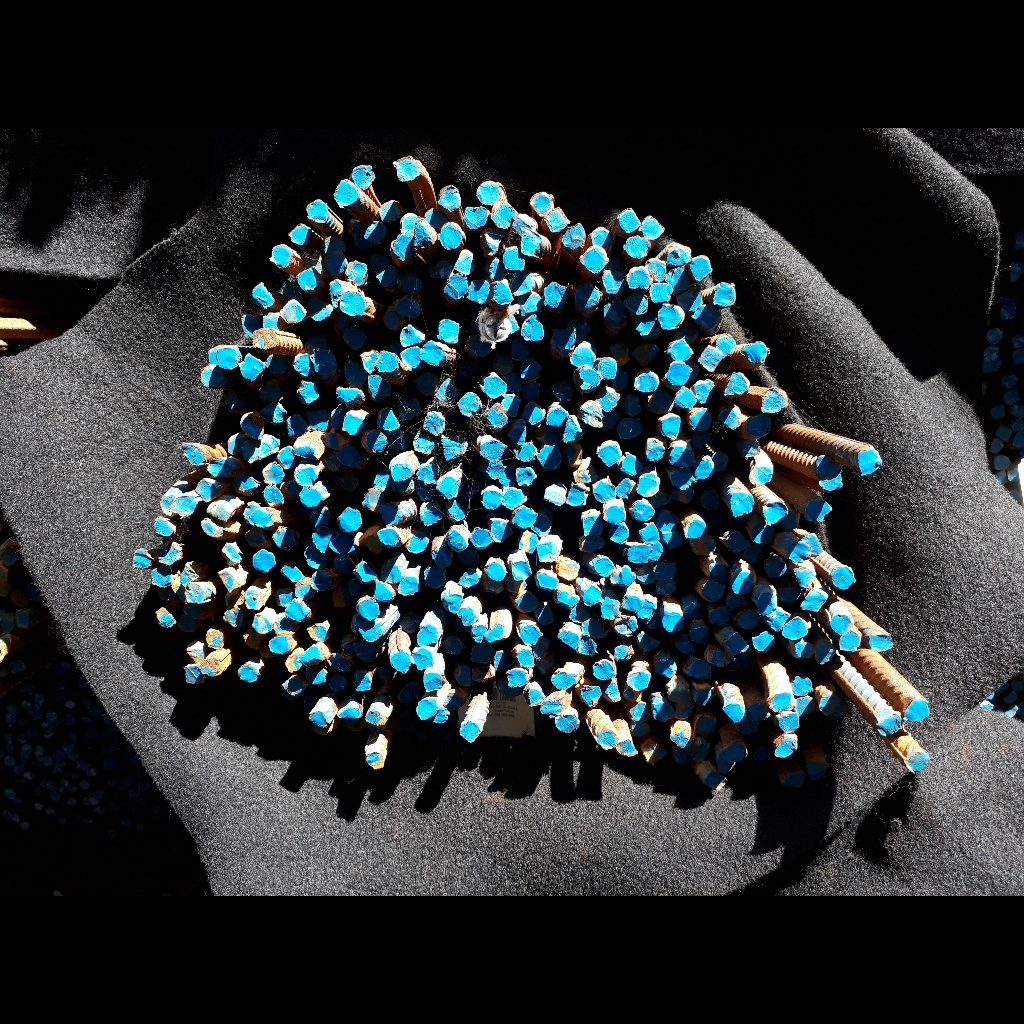dipstick: (483, 313, 519, 342), (294, 434, 324, 461), (310, 348, 336, 379), (208, 345, 239, 371), (541, 280, 568, 309), (333, 178, 359, 208), (665, 674, 692, 702), (573, 365, 602, 391), (691, 305, 721, 330), (580, 248, 610, 273), (518, 226, 541, 258), (724, 371, 751, 398), (342, 409, 369, 436), (569, 343, 597, 369), (420, 340, 446, 368), (440, 435, 468, 461), (665, 338, 694, 363), (578, 399, 603, 428), (239, 411, 264, 440), (293, 644, 323, 668), (697, 345, 723, 372), (443, 274, 470, 300), (781, 616, 809, 641), (665, 266, 693, 291), (664, 361, 692, 386), (596, 385, 621, 413), (239, 353, 264, 381), (560, 414, 583, 444), (639, 214, 665, 240), (692, 378, 718, 404), (641, 739, 667, 765), (487, 517, 513, 543), (806, 498, 833, 523), (601, 299, 628, 324), (575, 282, 600, 309), (497, 672, 524, 697), (250, 283, 275, 310), (721, 631, 749, 655), (654, 650, 678, 678), (520, 314, 544, 342), (537, 443, 561, 471), (339, 292, 367, 316), (618, 206, 641, 235), (622, 235, 651, 258), (669, 719, 692, 748), (857, 449, 882, 475), (728, 492, 754, 517), (597, 441, 623, 466), (591, 477, 616, 503), (601, 499, 627, 524), (544, 207, 570, 232), (549, 376, 574, 402), (492, 202, 517, 228), (437, 224, 463, 249), (393, 157, 419, 182), (413, 430, 439, 455), (271, 526, 297, 551), (657, 304, 681, 331), (632, 345, 659, 369), (562, 223, 586, 250), (492, 348, 516, 375), (511, 505, 538, 529), (419, 500, 443, 527), (344, 358, 368, 385), (280, 299, 307, 323), (687, 618, 710, 646), (438, 185, 461, 213), (414, 219, 437, 247), (635, 471, 660, 496), (551, 326, 576, 351), (529, 191, 554, 216), (516, 291, 541, 316), (251, 548, 276, 573), (903, 698, 929, 722), (689, 256, 713, 282), (630, 311, 656, 335), (566, 481, 590, 507), (307, 297, 333, 321), (501, 487, 528, 510), (392, 234, 415, 261), (360, 526, 383, 553), (156, 543, 183, 566), (259, 403, 288, 424), (192, 365, 224, 384), (730, 571, 755, 595), (670, 466, 695, 490), (617, 452, 642, 476), (502, 245, 526, 270), (366, 374, 391, 398), (256, 434, 280, 459), (303, 544, 327, 569), (764, 554, 787, 580), (761, 501, 787, 524), (713, 281, 736, 307), (668, 445, 694, 468), (654, 509, 680, 532), (610, 563, 636, 586), (458, 391, 481, 417), (400, 324, 426, 347), (800, 590, 827, 612), (675, 290, 702, 312), (454, 249, 476, 276), (394, 297, 421, 319), (334, 387, 365, 406), (602, 270, 626, 294), (637, 631, 661, 655), (521, 401, 545, 425), (489, 281, 513, 305), (259, 379, 283, 403), (816, 455, 841, 478), (830, 565, 855, 588), (786, 541, 811, 564), (876, 713, 901, 736), (750, 630, 775, 653), (674, 632, 697, 657), (599, 677, 622, 702), (467, 279, 490, 304), (415, 371, 438, 396), (373, 349, 398, 372), (362, 487, 385, 512), (339, 507, 362, 532), (352, 166, 375, 191), (322, 252, 347, 275), (309, 507, 332, 532), (284, 599, 309, 622), (617, 419, 643, 441), (554, 713, 580, 735), (352, 561, 378, 583), (353, 640, 379, 662), (233, 473, 259, 495), (690, 534, 717, 555), (480, 440, 507, 461), (328, 534, 355, 555), (790, 565, 814, 588), (830, 613, 854, 636), (666, 242, 690, 265), (674, 385, 697, 409), (463, 206, 487, 229), (377, 408, 400, 432), (337, 445, 361, 468), (342, 328, 366, 351), (253, 328, 276, 352), (297, 381, 320, 405), (181, 442, 205, 465), (174, 495, 197, 519), (273, 613, 297, 636), (905, 750, 930, 772), (761, 388, 783, 413), (742, 341, 767, 363), (766, 691, 791, 713), (631, 497, 653, 522), (721, 740, 746, 762), (580, 684, 602, 709), (437, 318, 459, 343), (423, 411, 445, 436), (345, 260, 367, 285), (184, 582, 209, 604), (633, 372, 659, 393), (554, 585, 580, 606), (554, 559, 580, 580), (486, 401, 507, 427), (284, 647, 304, 674), (628, 700, 651, 723), (468, 334, 491, 357), (476, 181, 499, 204), (372, 578, 395, 601), (297, 268, 320, 291), (306, 409, 329, 432), (262, 462, 285, 485), (222, 542, 245, 565), (818, 693, 842, 715), (767, 608, 791, 630), (626, 268, 650, 290), (737, 609, 761, 631), (567, 317, 591, 339), (614, 613, 638, 635), (517, 530, 539, 554), (470, 641, 494, 663), (483, 376, 507, 398), (416, 461, 438, 485), (398, 398, 422, 420), (309, 570, 333, 592), (364, 221, 386, 245), (309, 531, 333, 553), (814, 639, 835, 664), (725, 531, 750, 552), (660, 415, 681, 440), (649, 392, 674, 413), (610, 341, 631, 366), (689, 738, 710, 763), (285, 413, 306, 438), (217, 568, 238, 593), (694, 454, 714, 480), (581, 618, 607, 638), (207, 457, 233, 477), (625, 545, 652, 564), (508, 418, 527, 445), (182, 602, 209, 621), (589, 227, 612, 249), (627, 669, 650, 691), (543, 483, 565, 506), (520, 624, 543, 646), (375, 265, 398, 287), (436, 476, 459, 498), (445, 529, 468, 551), (306, 199, 328, 222), (224, 391, 246, 414), (751, 522, 775, 543), (648, 281, 672, 302), (572, 460, 596, 481), (484, 227, 505, 251), (384, 306, 405, 330), (355, 599, 379, 620), (270, 245, 291, 269), (293, 464, 317, 485), (298, 486, 322, 507), (207, 501, 231, 522), (868, 632, 893, 652), (551, 670, 576, 690), (514, 591, 539, 611), (405, 534, 430, 554), (276, 445, 296, 470), (683, 595, 702, 621), (790, 674, 812, 696), (750, 464, 772, 486), (689, 409, 711, 431), (581, 514, 603, 536), (546, 406, 568, 428), (515, 440, 537, 462), (436, 380, 458, 402), (470, 527, 492, 549), (432, 546, 454, 568), (424, 566, 446, 588), (411, 648, 433, 670), (415, 698, 437, 720), (365, 430, 387, 452), (360, 621, 382, 643), (196, 480, 218, 502), (715, 334, 736, 357), (675, 321, 698, 342), (718, 408, 741, 429), (702, 580, 725, 601), (596, 357, 617, 380), (557, 629, 580, 650), (511, 273, 532, 296), (518, 360, 541, 381), (441, 593, 464, 614), (481, 487, 502, 510), (400, 346, 421, 369), (389, 651, 410, 674), (379, 504, 402, 525), (790, 639, 814, 659), (707, 647, 731, 667), (623, 295, 647, 315), (687, 659, 711, 679), (616, 476, 636, 500), (591, 659, 615, 679), (535, 570, 559, 590), (487, 256, 507, 280), (180, 562, 199, 587), (838, 630, 860, 651), (537, 541, 558, 563), (509, 337, 530, 359), (459, 722, 481, 743), (417, 625, 438, 647), (398, 611, 420, 632), (386, 429, 408, 450), (263, 486, 284, 508), (133, 549, 155, 570), (151, 567, 173, 588), (294, 578, 316, 599), (251, 613, 272, 635), (155, 607, 176, 629), (747, 415, 770, 435), (721, 702, 744, 722), (707, 605, 730, 625), (640, 541, 663, 561), (532, 512, 552, 535), (505, 668, 528, 688), (472, 662, 495, 682), (500, 394, 520, 417), (359, 350, 379, 373), (378, 202, 401, 222), (288, 226, 311, 246), (265, 354, 288, 374), (244, 528, 267, 548), (736, 439, 760, 458), (646, 258, 665, 282), (774, 737, 798, 756), (622, 394, 641, 418), (569, 604, 593, 623), (530, 637, 549, 661), (398, 685, 422, 704), (376, 528, 400, 547), (326, 652, 350, 671), (241, 314, 260, 338), (819, 473, 844, 491), (757, 590, 775, 615), (662, 611, 683, 632), (636, 598, 657, 619), (608, 522, 629, 543), (484, 623, 505, 644), (372, 471, 393, 492), (282, 676, 303, 697), (332, 587, 353, 608), (337, 470, 358, 491), (802, 532, 822, 554), (778, 713, 800, 733), (705, 770, 727, 790), (593, 557, 615, 577), (600, 598, 620, 620), (616, 738, 638, 758), (515, 466, 537, 486), (390, 462, 412, 482), (381, 565, 403, 585), (252, 507, 272, 529), (223, 606, 243, 628), (243, 628, 263, 650), (206, 628, 226, 650), (237, 663, 259, 683), (806, 759, 829, 778), (708, 563, 731, 582), (200, 519, 223, 538), (280, 563, 303, 582), (244, 588, 263, 611), (268, 635, 291, 654), (453, 663, 471, 687), (306, 624, 330, 642), (776, 586, 801, 603), (700, 490, 720, 511), (692, 687, 713, 707), (653, 702, 673, 723), (597, 730, 617, 751), (522, 380, 542, 401), (511, 560, 532, 580), (523, 687, 544, 707), (443, 636, 464, 656), (459, 568, 479, 589), (485, 561, 505, 582), (445, 500, 465, 521), (353, 671, 373, 692), (334, 555, 354, 576), (199, 658, 220, 678), (795, 697, 817, 716), (610, 369, 629, 391), (638, 524, 660, 543), (582, 586, 604, 605), (503, 372, 522, 394), (430, 259, 452, 278), (400, 272, 422, 291), (292, 354, 311, 376), (160, 492, 176, 518), (653, 563, 677, 580), (580, 535, 604, 552), (684, 520, 704, 540), (659, 534, 684, 550), (456, 606, 476, 626), (186, 641, 206, 661), (830, 702, 851, 721), (563, 443, 582, 464), (494, 650, 513, 671), (309, 709, 330, 728), (305, 666, 326, 685), (225, 588, 246, 607), (783, 769, 805, 787), (635, 564, 653, 586), (693, 716, 715, 734), (717, 753, 735, 775), (483, 576, 505, 594), (393, 477, 415, 495), (654, 579, 677, 596), (540, 700, 563, 717), (743, 542, 763, 561), (669, 745, 688, 765), (515, 648, 534, 668), (397, 576, 417, 595), (327, 673, 347, 692), (326, 431, 346, 450), (155, 518, 175, 537), (690, 431, 711, 449), (651, 489, 672, 507), (621, 594, 642, 612), (536, 604, 554, 625), (487, 459, 505, 480), (423, 671, 441, 692), (329, 280, 343, 307), (330, 405, 345, 430), (745, 703, 767, 720), (499, 465, 516, 487), (243, 501, 260, 523), (726, 594, 749, 610), (737, 718, 760, 734), (364, 709, 387, 725), (283, 282, 302, 301), (184, 665, 203, 684), (645, 443, 665, 461), (322, 238, 346, 253), (281, 480, 299, 500), (275, 588, 293, 608), (711, 451, 728, 472), (323, 450, 340, 471), (227, 434, 244, 455), (457, 548, 479, 564), (305, 335, 327, 351), (514, 212, 539, 226), (672, 488, 695, 503), (470, 625, 488, 644), (366, 752, 385, 770), (577, 638, 597, 655), (425, 208, 445, 225), (506, 575, 527, 591), (401, 213, 417, 234), (243, 442, 259, 463), (673, 701, 692, 718), (544, 428, 563, 445), (416, 482, 435, 499), (340, 634, 357, 653), (311, 721, 334, 735), (753, 745, 773, 761), (614, 644, 634, 660), (177, 617, 197, 633), (630, 722, 651, 737), (336, 707, 362, 719), (343, 718, 365, 732), (780, 512, 798, 529), (444, 691, 462, 708), (350, 579, 367, 597), (431, 706, 448, 723), (222, 495, 242, 508), (351, 615, 364, 633), (262, 314, 279, 327)
